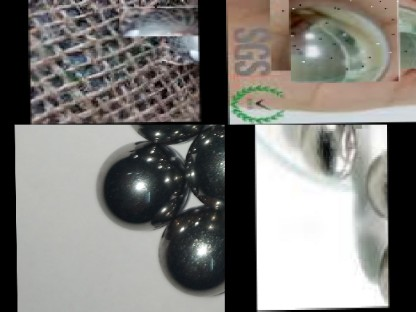ironball: (278, 0, 408, 76), (94, 141, 187, 234), (159, 203, 226, 299), (294, 124, 358, 188), (139, 5, 201, 70), (184, 122, 224, 208), (361, 151, 387, 227), (367, 240, 388, 308), (129, 122, 202, 140), (382, 124, 387, 139)
